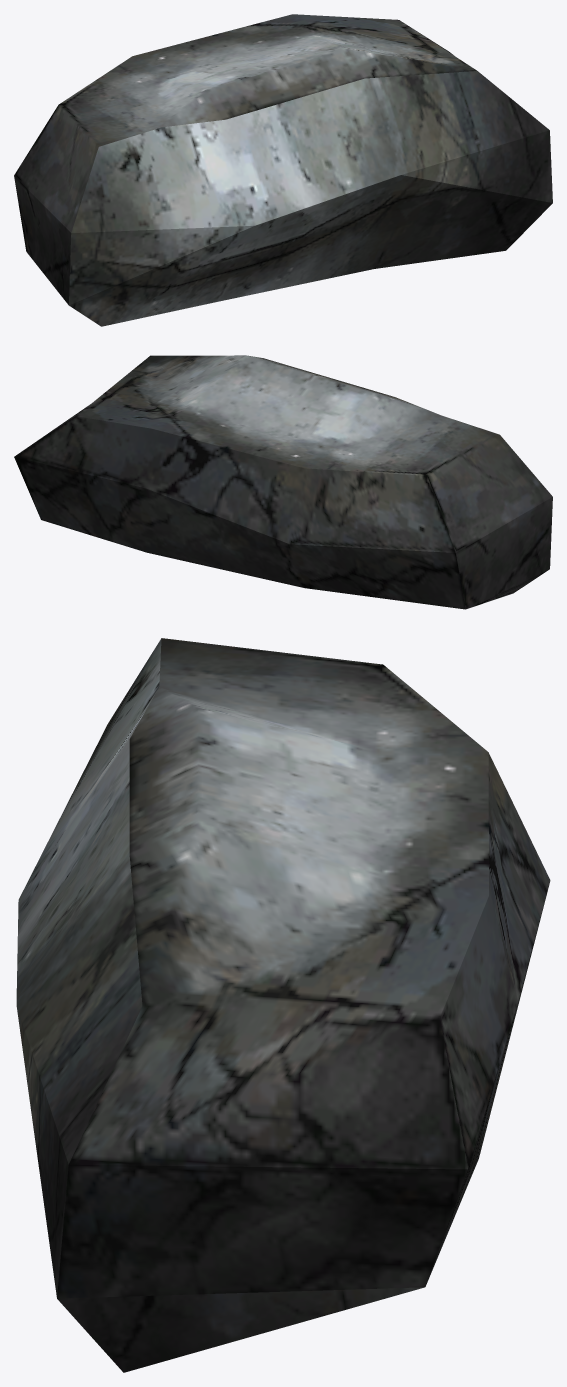
Rendered from BigRock.FBX.
3 renders of one model, top to bottom at view 1: azimuth 30°, elevation 25°; view 2: azimuth 150°, elevation 25°; view 3: azimuth 270°, elevation 25°, orthographic. The views are drawn at different scales.
Visible parts, largest first — view 1: RockChunk05; view 2: RockChunk05; view 3: RockChunk05.
Boxes of the visible parts, <box> form: RockChunk05: <box>14,14,552,326</box>; RockChunk05: <box>14,355,552,609</box>; RockChunk05: <box>16,638,550,1372</box>.
Size of the model in its own units: 117 by 52.2 by 60.17.
